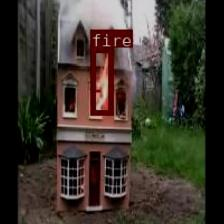fire: (90, 48, 112, 114)
